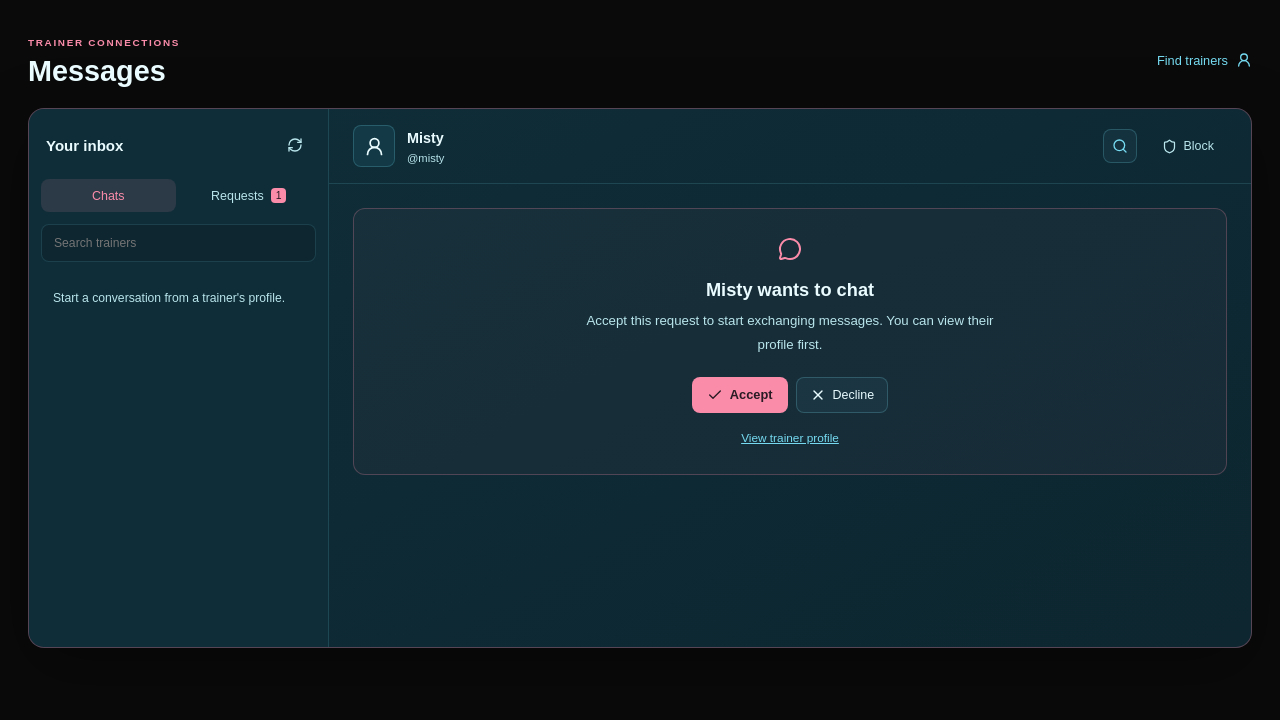
Test case: messages inbox › accepts a received request before exposing the message composer
Expected: the heading "Misty wants to chat" is shown, [706,279,874,300]
Expected: the field labelled "Message Misty" is not shown
Click the button "Accept" at coordinates (740, 395), box [692,377,788,413]
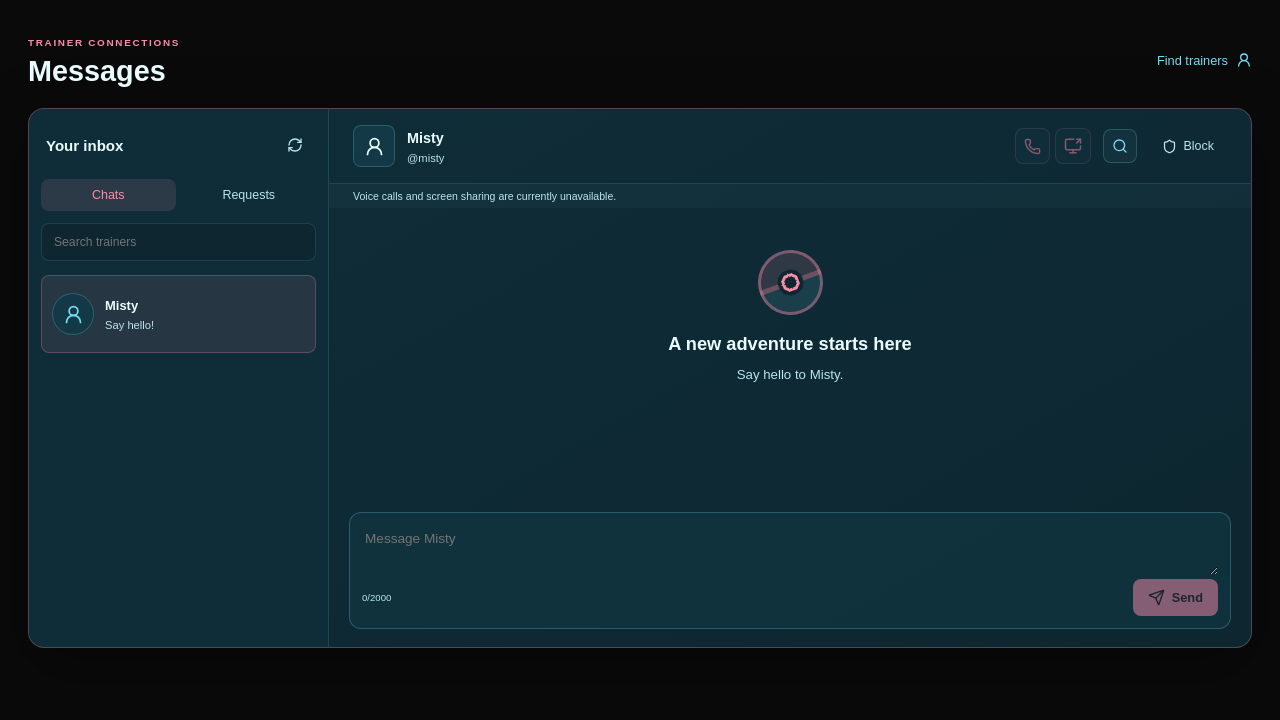
Now the text box labelled "Message Misty" is shown, box [362,525,1218,575]
